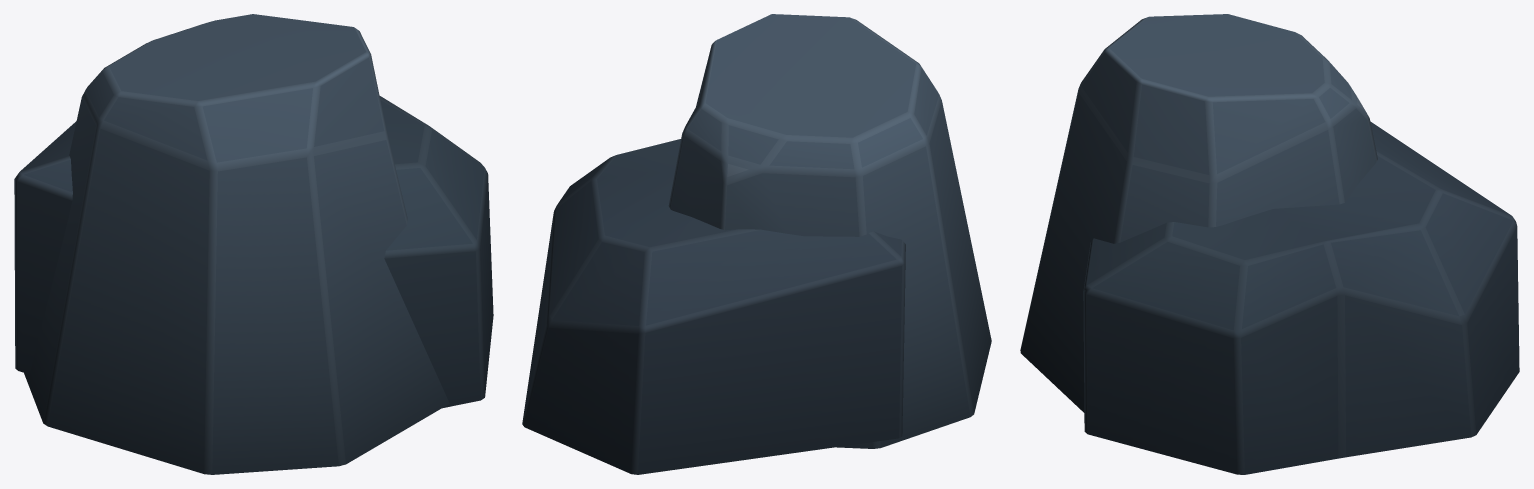
The model's file is Rocktest4.fbx.
The picture shows the model from 3 angles, left to right: view 1: azimuth 30°, elevation 25°; view 2: azimuth 150°, elevation 25°; view 3: azimuth 270°, elevation 25°; orthographic projection. The views are drawn at different scales.
Parts seen in each view (by area): view 1: Rocktest4; view 2: Rocktest4; view 3: Rocktest4.
Boxes of the visible parts, x1,y1,x2,y2 form: Rocktest4: (14, 14, 493, 474); Rocktest4: (522, 14, 991, 474); Rocktest4: (1020, 14, 1519, 474).
Bounding box in the file's own units: 3.31 × 2.42 × 3.47.
